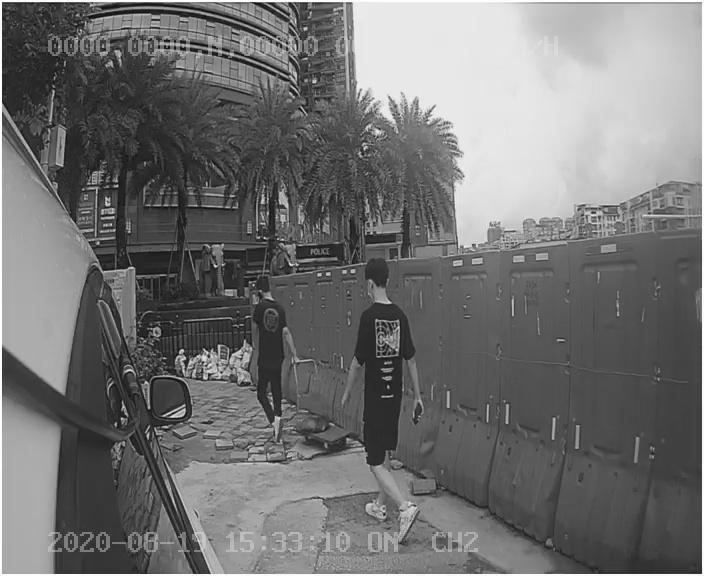person: (332, 262, 440, 491), (238, 275, 309, 448)
